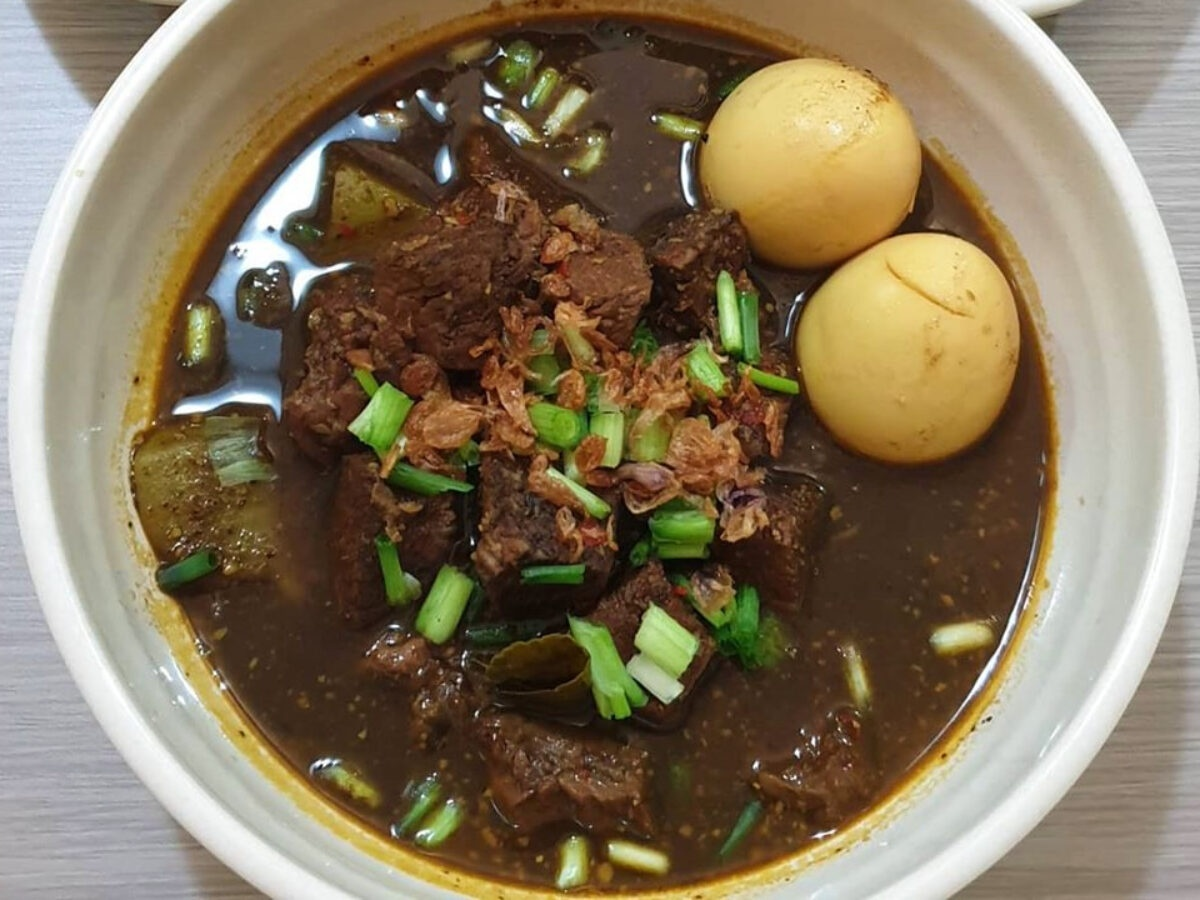rawon: (129, 71, 1066, 807)
